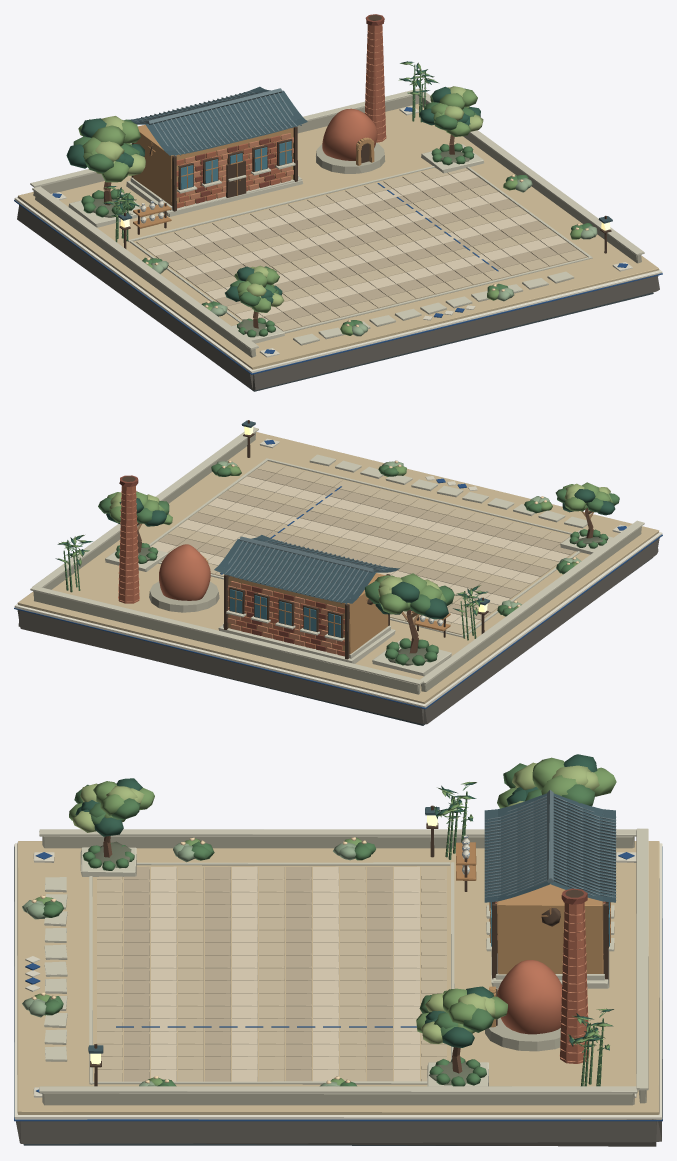
File: guyao.glb
3 renders of one model, top to bottom at view 1: azimuth 30°, elevation 25°; view 2: azimuth 150°, elevation 25°; view 3: azimuth 270°, elevation 25°, orthographic. The views are drawn at different scales.
Parts seen in each view (by area): view 1: Garden ground, Individual courtyard flagstone, Individual courtyard flagstone.001, Individual courtyard flagstone.002, Courtyard border, 20 × 20 square island, Low stone garden wall, Sweeping tiled roof, Handmade facade brick, Mounded planting.001, Mounded planting.002, Kiln hall walls (+13 smaller); view 2: Garden ground, Courtyard border, Individual courtyard flagstone, 20 × 20 square island, Individual courtyard flagstone.002, Individual courtyard flagstone.001, Low stone garden wall, Handmade facade brick, Sweeping tiled roof, Mounded planting.001, Raised roof tile seam, Porcelain perimeter band (+12 smaller); view 3: Garden ground, Individual courtyard flagstone, Individual courtyard flagstone.002, Individual courtyard flagstone.001, Courtyard border, 20 × 20 square island, Low stone garden wall, Raised roof tile seam, Handmade facade brick, Sweeping tiled roof, Mounded planting.001, Kiln hall walls (+12 smaller).
Part boxes in pixels (x1,y1,x2,y2): Garden ground: (17,98,659,369); Individual courtyard flagstone: (136,168,586,331); Individual courtyard flagstone.001: (146,170,566,319); Individual courtyard flagstone.002: (156,177,576,323); Courtyard border: (30,88,644,349); 20 × 20 square island: (17,205,659,390); Low stone garden wall: (33,94,641,357); Sweeping tiled roof: (118,86,612,223); Handmade facade brick: (176,24,386,208); Mounded planting.001: (73,63,592,337); Mounded planting.002: (78,62,583,335); Kiln hall walls: (133,124,374,205); Garden ground: (17,432,659,703); Courtyard border: (30,427,644,685); Individual courtyard flagstone: (161,462,570,634); 20 × 20 square island: (17,536,659,724); Individual courtyard flagstone.002: (158,469,575,620); Individual courtyard flagstone.001: (150,476,569,627); Low stone garden wall: (33,432,641,694); Handmade facade brick: (118,486,344,656); Sweeping tiled roof: (214,420,489,605); Mounded planting.001: (63,463,619,665); Raised roof tile seam: (220,536,388,604); Porcelain perimeter band: (14,532,662,707); Garden ground: (17,841,659,1114); Individual courtyard flagstone: (97,866,446,1081); Individual courtyard flagstone.002: (124,866,392,1081); Individual courtyard flagstone.001: (151,866,419,1081); Courtyard border: (39,828,648,1093); 20 × 20 square island: (16,1119,661,1146); Low stone garden wall: (42,836,646,1105); Raised roof tile seam: (484,790,616,900); Handmade facade brick: (495,901,605,1063); Sweeping tiled roof: (88,793,615,1053); Mounded planting.001: (42,763,608,1086); Kiln hall walls: (489,884,603,1027).
Size of the model in its own units: 20.06 by 6.88 by 20.06.
